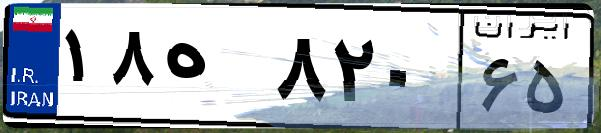0: (385, 28, 445, 110)
1: (57, 26, 110, 100)
2: (330, 28, 385, 110)
5: (525, 38, 570, 115)
6: (475, 38, 525, 113)
8: (270, 28, 330, 110), (110, 28, 158, 98)
ه: (158, 20, 270, 120)
